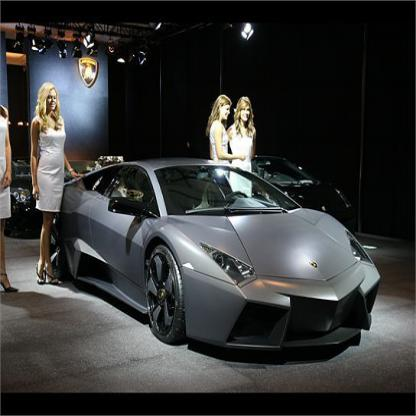Vehicle: (43, 161, 382, 356)
